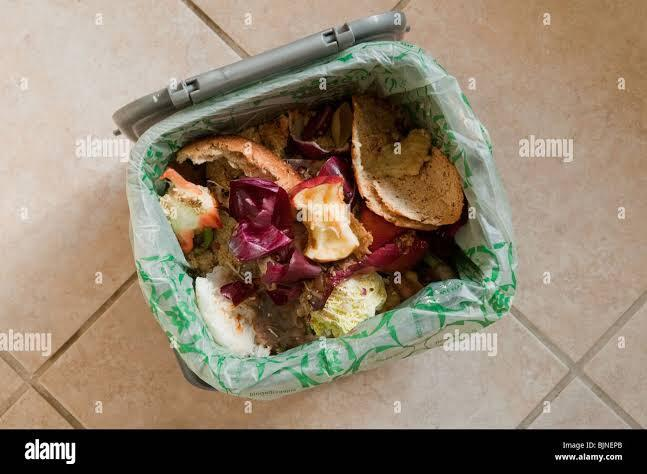organic: (352, 96, 464, 230), (165, 136, 301, 192), (292, 177, 358, 262), (229, 177, 293, 261), (160, 167, 221, 255), (310, 273, 385, 337)
